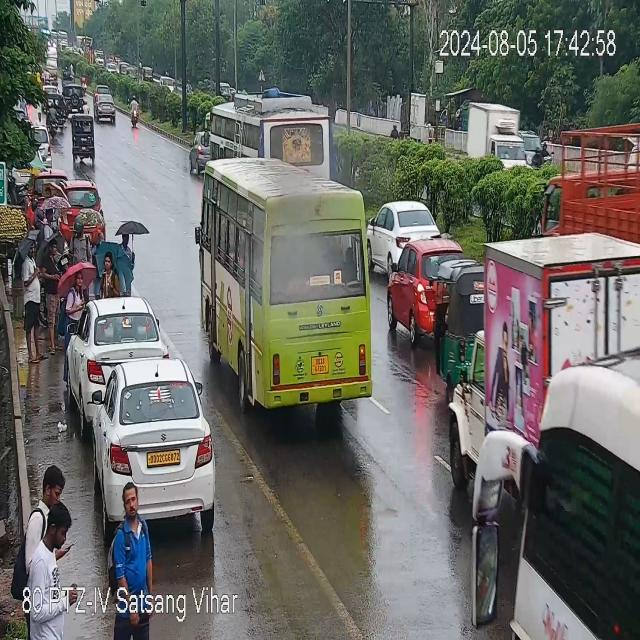2-wheelers: (528, 118, 560, 170), (188, 127, 208, 176), (127, 99, 144, 130), (49, 104, 58, 138)
auto: (438, 260, 485, 379), (70, 116, 96, 162), (47, 92, 65, 133)
bus: (202, 150, 379, 414), (471, 365, 640, 640), (200, 96, 338, 186)
car: (87, 363, 217, 524), (390, 235, 482, 348), (68, 297, 164, 399), (369, 198, 443, 263), (65, 176, 100, 218), (29, 125, 54, 168), (94, 94, 119, 124), (64, 82, 84, 113)
pedestrian: (38, 181, 65, 231), (36, 113, 44, 126)
truck: (446, 234, 640, 486), (540, 119, 631, 233), (108, 481, 154, 640), (17, 464, 65, 584), (31, 502, 77, 590), (468, 104, 524, 168), (22, 240, 45, 362), (46, 235, 63, 356), (62, 272, 82, 364), (70, 216, 92, 266), (100, 254, 118, 300), (122, 234, 134, 297), (43, 207, 58, 237), (28, 191, 38, 228), (44, 186, 51, 200)
